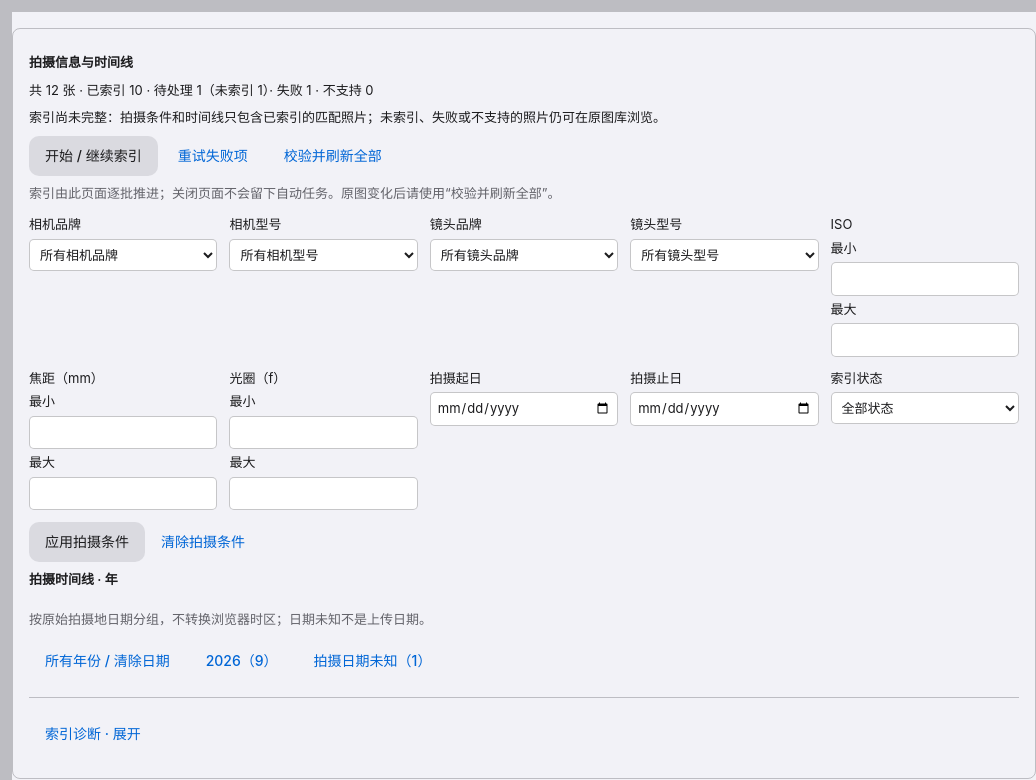
Test: shows incomplete indexing honestly and applies real device/numeric URL conditions
Expected: the text "索引尚未完整：拍摄条件和时间线只包含已索引的匹配照片；未索引、失败或不支持的照片仍可在原图库浏览。" is shown, [29,109,666,125]
Select "eos 70d（10）" in the dropdown labelled "相机型号": (324, 254) [229,238,418,270]
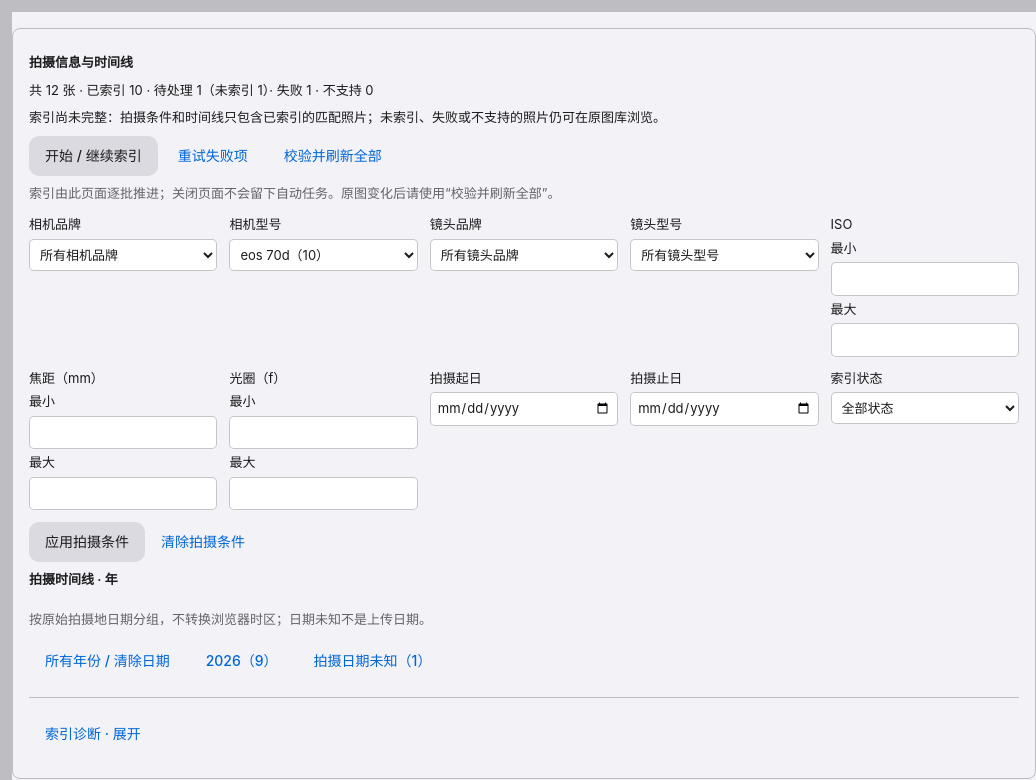
In the number field named "iso min": (925, 279) [831,262,1019,296], type "200"
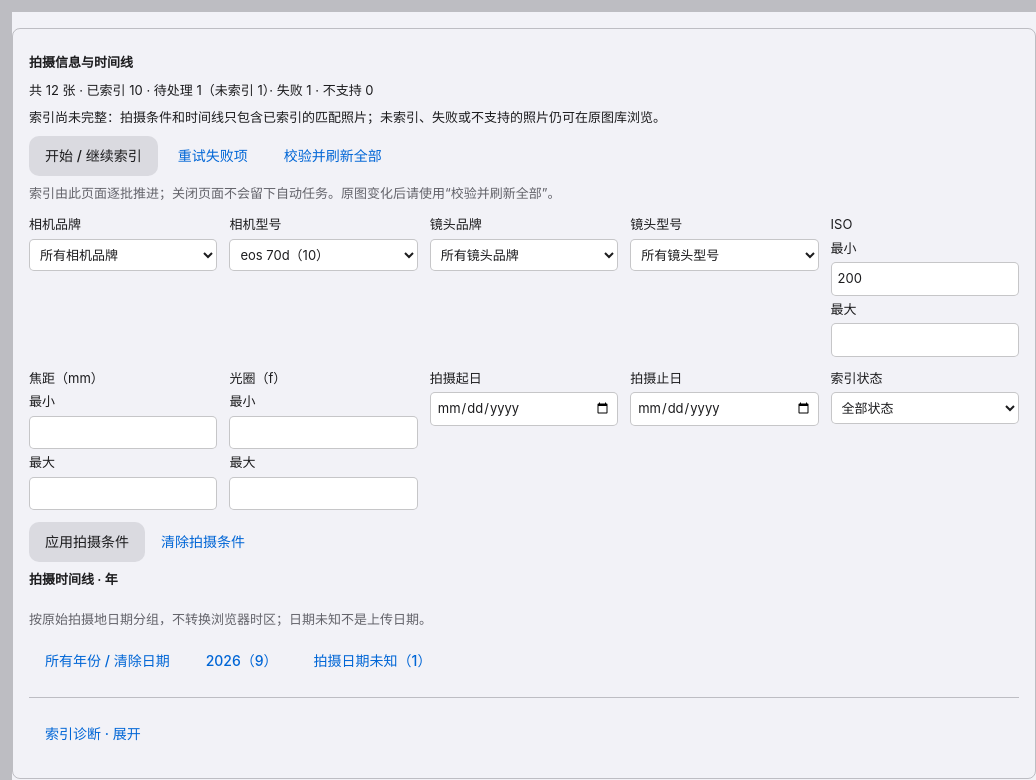
Click the button "应用拍摄条件": (87, 542) [29,522,145,562]
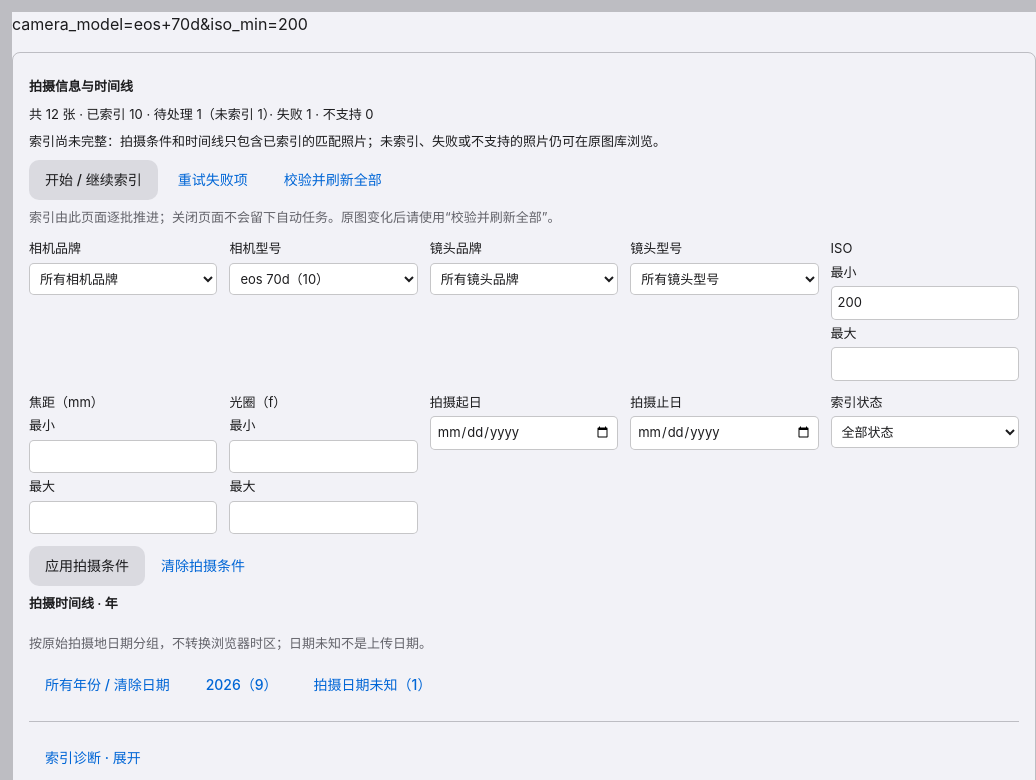
Now the text named "筛选地址" reads "camera_model=eos+70d&iso_min=200", box [12,14,308,34]
